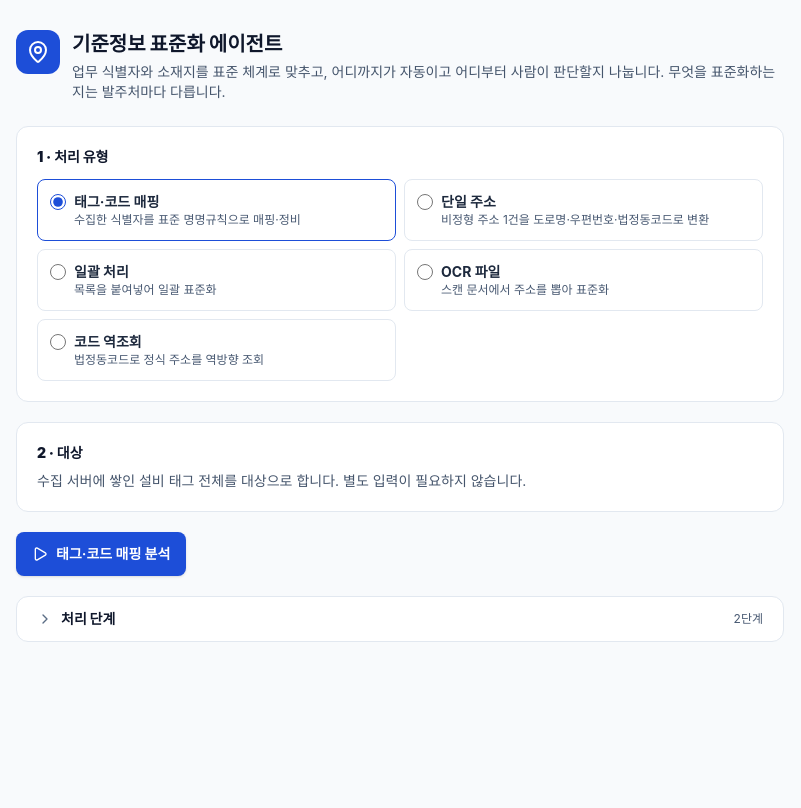
Test: MappingPage › 미매칭 사유마다 AI 처리 가능 여부를 표시한다
The width and height of the screenshot is (801, 808).
Click the button "태그·코드 매핑 분석": click(101, 554) left=16, top=532, right=186, bottom=576
(page scrolled)
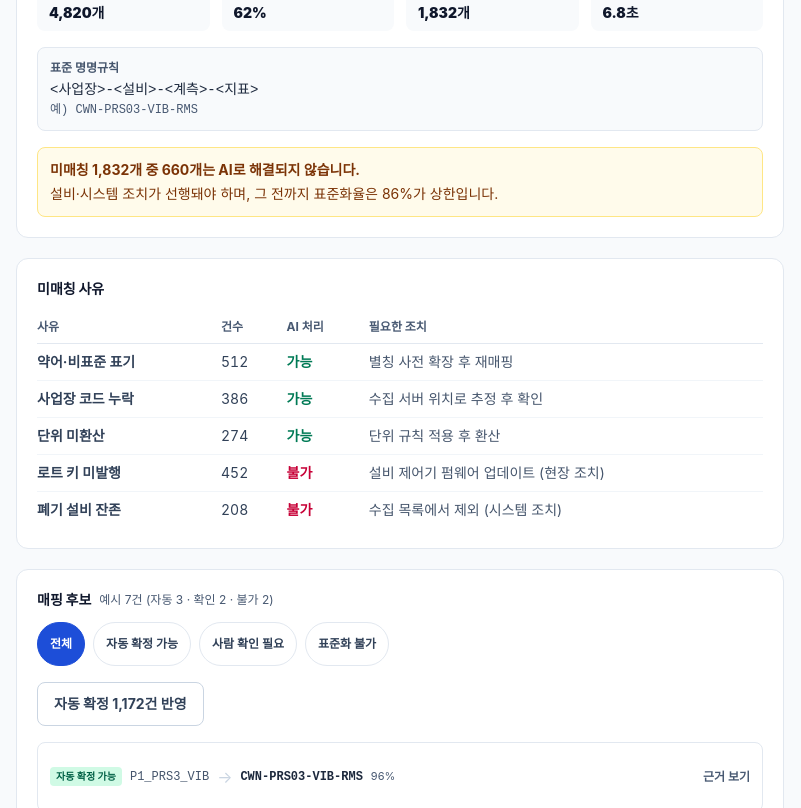
Now the element "미매칭 사유" shows "로트 키 미발행", box left=37, top=464, right=121, bottom=480
Now the element "미매칭 사유" shows "설비 제어기 펌웨어 업데이트", box left=369, top=464, right=605, bottom=480
